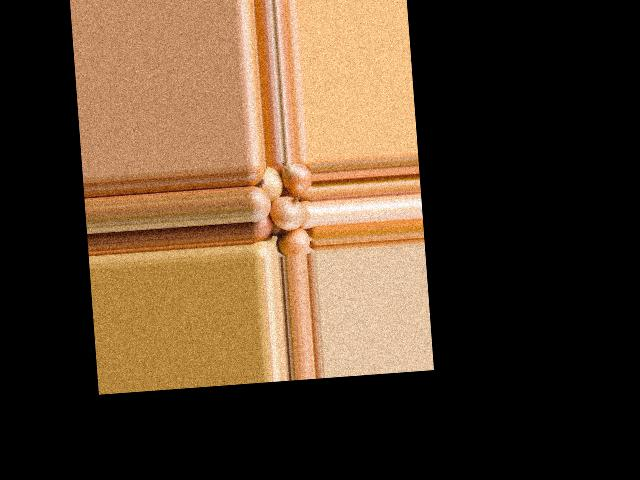onion: (296, 198, 314, 230)
